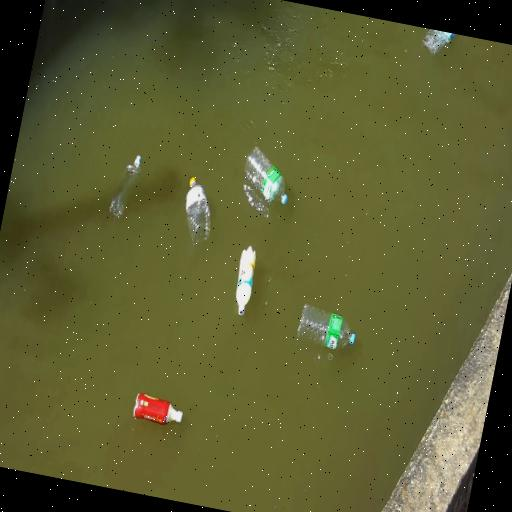plastic: (297, 305, 355, 349), (245, 147, 287, 205), (110, 156, 141, 218), (133, 393, 183, 425), (186, 178, 210, 244), (236, 247, 256, 315), (423, 29, 454, 55)
